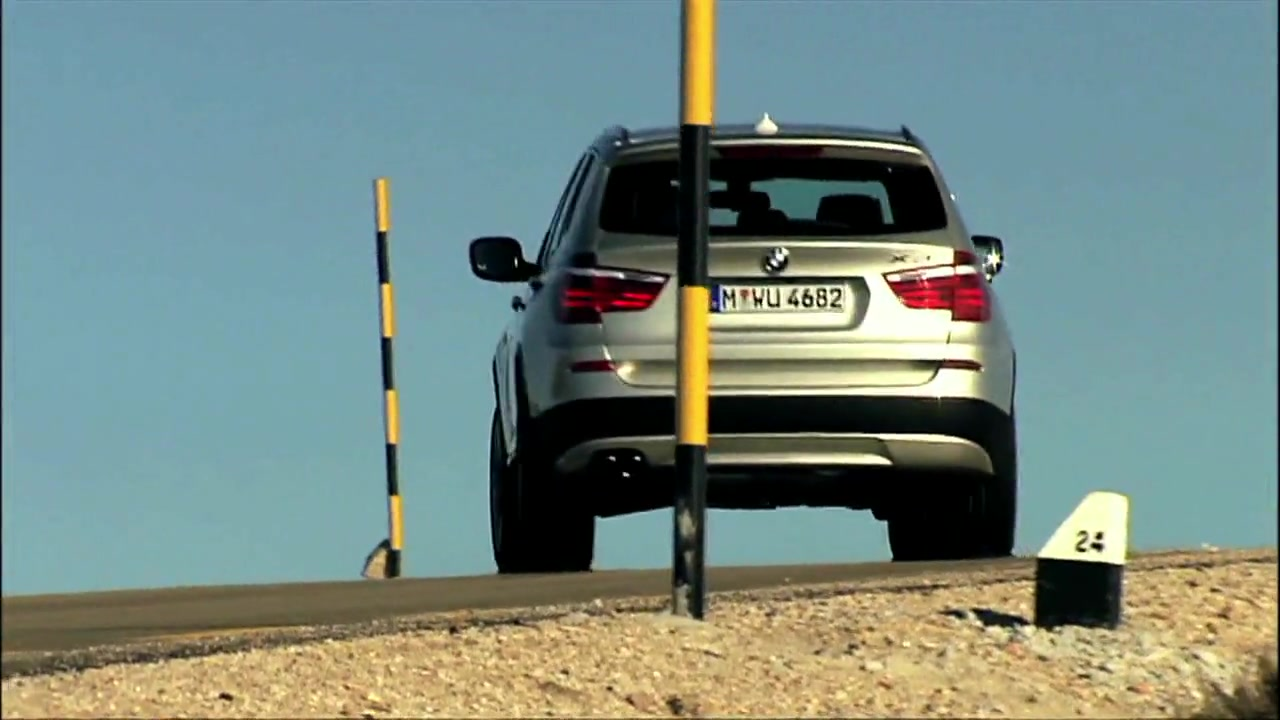car: (465, 125, 1024, 580)
